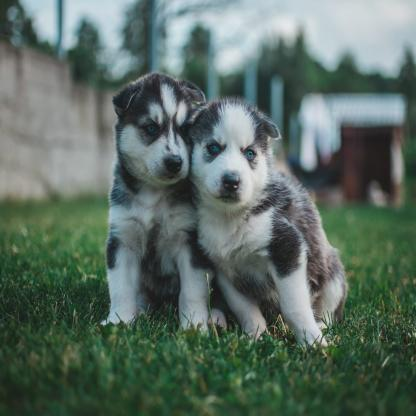husky: (190, 103, 349, 359), (103, 73, 213, 335)
